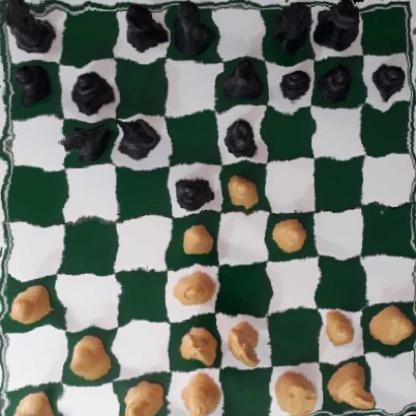black-bishop: (123, 2, 163, 47), (223, 60, 262, 105)
black-king: (316, 0, 363, 53)
black-knight: (63, 120, 110, 164), (108, 115, 156, 157)
black-pawn: (172, 171, 213, 215), (222, 120, 262, 162), (72, 67, 109, 112), (12, 62, 49, 103), (315, 61, 353, 98), (373, 59, 406, 97), (276, 66, 310, 102)
black-queen: (169, 0, 213, 53)
black-rook: (2, 0, 59, 55), (268, 0, 311, 57)
white-bishop: (172, 266, 215, 307), (122, 376, 164, 416)
white-king: (320, 354, 375, 414)
white-knight: (223, 321, 261, 366), (178, 326, 215, 368)
white-pawn: (63, 333, 110, 382), (6, 280, 54, 326), (370, 303, 411, 342), (318, 306, 353, 350), (177, 217, 214, 257), (225, 169, 262, 206), (272, 217, 308, 252)
white-queen: (173, 367, 218, 416)
white-rook: (271, 368, 316, 416), (0, 387, 56, 416)
